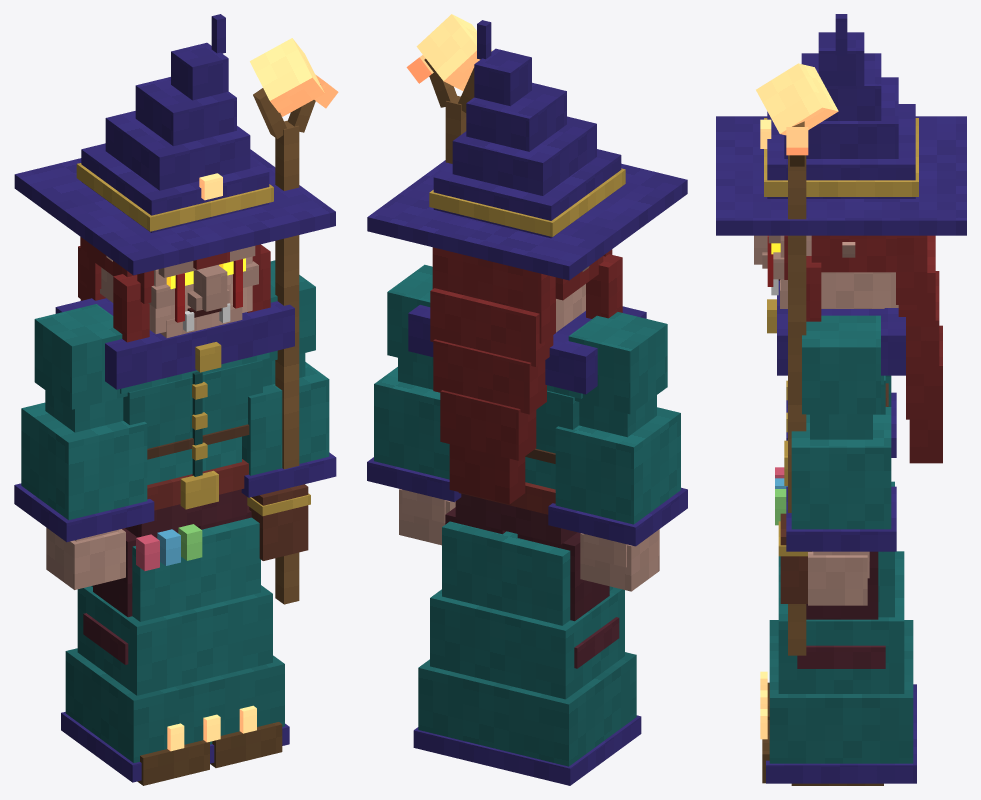
The model's file is kijin_mage_v2.glb.
3 renders of one model, left to right at view 1: azimuth 30°, elevation 25°; view 2: azimuth 150°, elevation 25°; view 3: azimuth 270°, elevation 25°, orthographic. The views are drawn at different scales.
Visible parts, largest first — view 1: Head, Root, Torso, ArmR, HandL, ArmL, LegR, LegL; view 2: Head, Root, ArmR, ArmL, Torso, HandL, LegR; view 3: Head, ArmL, Root, HandL, Torso, LegL, ArmR.
Boxes of the visible parts, x1=… form: Head: x1=14, y1=14, x2=335, y2=342; Root: x1=61, y1=517, x2=289, y2=782; Torso: x1=55, y1=298, x2=310, y2=570; ArmR: x1=14, y1=304, x2=154, y2=589; HandL: x1=250, y1=38, x2=338, y2=604; ArmL: x1=241, y1=260, x2=336, y2=497; LegR: x1=83, y1=528, x2=209, y2=785; LegL: x1=197, y1=505, x2=282, y2=767; Head: x1=367, y1=20, x2=687, y2=504; Root: x1=413, y1=521, x2=641, y2=785; ArmR: x1=548, y1=312, x2=687, y2=591; ArmL: x1=367, y1=264, x2=461, y2=545; Torso: x1=408, y1=305, x2=646, y2=544; HandL: x1=406, y1=14, x2=492, y2=163; LegR: x1=517, y1=532, x2=619, y2=668; Head: x1=716, y1=14, x2=966, y2=463; ArmL: x1=786, y1=315, x2=896, y2=605; Root: x1=760, y1=481, x2=916, y2=783; HandL: x1=756, y1=63, x2=838, y2=655; Torso: x1=767, y1=280, x2=905, y2=603; LegL: x1=762, y1=551, x2=885, y2=785; ArmR: x1=786, y1=375, x2=896, y2=457.
Bounding box in the file's own units: 0.8994 × 2.26 × 0.68.
Materials: 42 (42 with a texture image).
